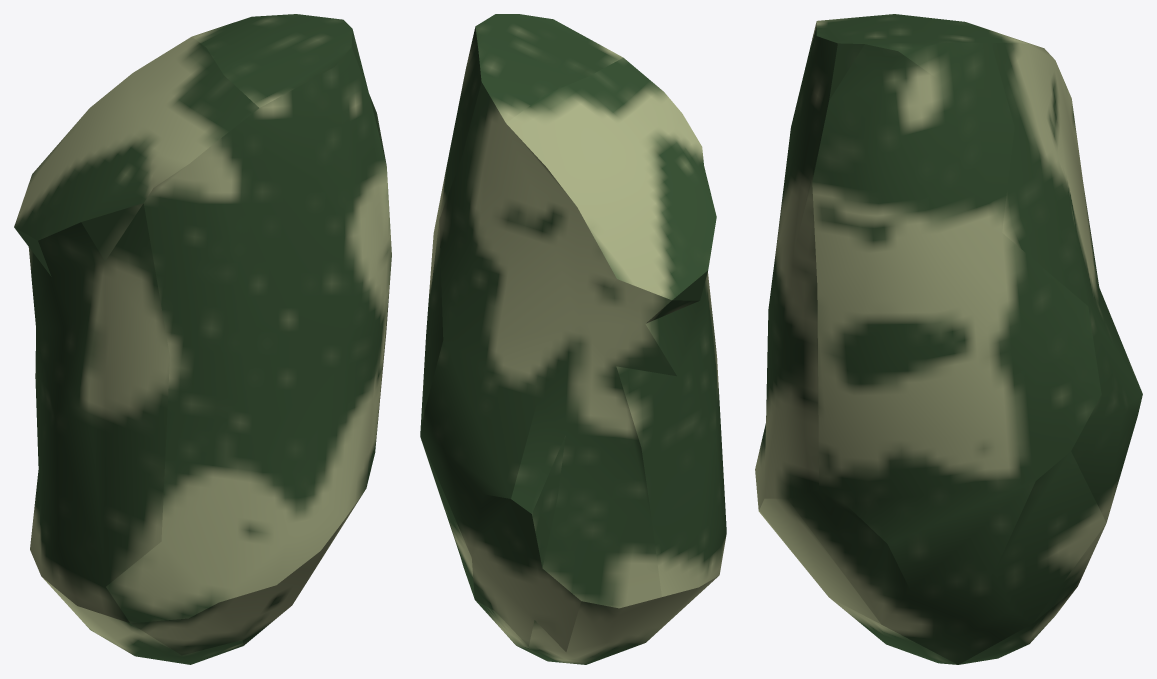
File: link_leg_1_R_1_composite.obj
3 views of the same model, side by side, from view 1: azimuth 30°, elevation 25°; view 2: azimuth 150°, elevation 25°; view 3: azimuth 270°, elevation 25° (orthographic). The views are drawn at different scales.
Visible parts, largest first — view 1: link_leg_1_R_1; view 2: link_leg_1_R_1; view 3: link_leg_1_R_1.
Boxes of the visible parts, bbox=[...] form: link_leg_1_R_1: bbox=[14, 14, 391, 664]; link_leg_1_R_1: bbox=[420, 14, 726, 664]; link_leg_1_R_1: bbox=[755, 14, 1142, 664].
Size of the model in its own units: 4.72 by 9.26 by 4.79.
1 material, 1 textured.
